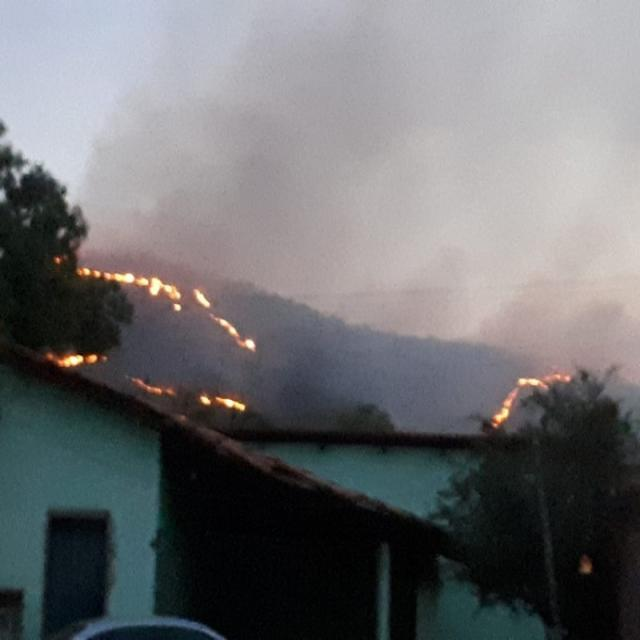Fire: (76, 262, 259, 357), (126, 367, 250, 420), (491, 376, 555, 436)
Smoke: (75, 0, 565, 249)
